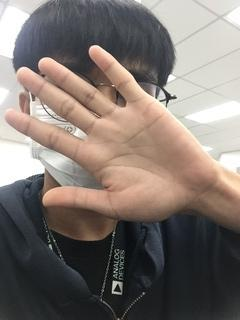hand: (4, 46, 211, 225)
